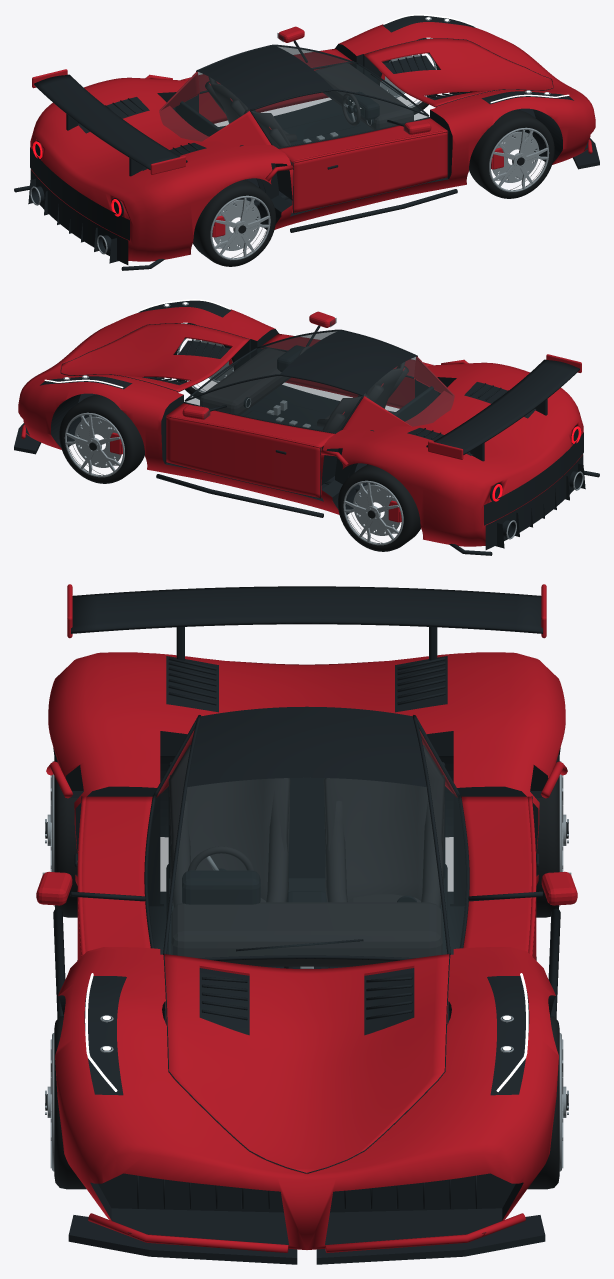
The model's file is car_vermilion.glb.
3 renders of one model, top to bottom at view 1: azimuth 30°, elevation 25°; view 2: azimuth 150°, elevation 25°; view 3: azimuth 270°, elevation 25°, orthographic. The views are drawn at different scales.
Visible parts, largest first — view 1: CarBody, Door_Right, Hood, RearWing, Wheel_Front_Right, Wheel_Rear_Right, Door_Left, Wheel_Front_Left; view 2: CarBody, Door_Left, Hood, RearWing, Wheel_Front_Left, Wheel_Rear_Left, Door_Right, Wheel_Front_Right; view 3: CarBody, Hood, RearWing, Door_Right, Door_Left, Wheel_Rear_Left, Wheel_Rear_Right, Wheel_Front_Left, Wheel_Front_Right.
Boxes of the visible parts, x1,y1,x2,y2 form: CarBody: [14, 14, 599, 270]; Door_Right: [250, 89, 448, 213]; Hood: [364, 38, 553, 107]; RearWing: [32, 69, 187, 176]; Wheel_Front_Right: [469, 109, 554, 198]; Wheel_Rear_Right: [193, 179, 275, 266]; Door_Left: [181, 26, 357, 123]; Wheel_Front_Left: [376, 38, 440, 114]; CarBody: [14, 299, 599, 555]; Door_Left: [165, 374, 363, 498]; Hood: [60, 323, 249, 392]; RearWing: [426, 354, 581, 461]; Wheel_Front_Left: [59, 394, 144, 483]; Wheel_Rear_Left: [338, 464, 420, 551]; Door_Right: [257, 311, 432, 408]; Wheel_Front_Right: [173, 323, 237, 399]; CarBody: [46, 652, 567, 1264]; Hood: [163, 954, 450, 1174]; RearWing: [67, 584, 546, 660]; Door_Right: [36, 715, 201, 960]; Door_Left: [412, 715, 577, 960]; Wheel_Rear_Left: [536, 753, 568, 917]; Wheel_Rear_Right: [45, 753, 77, 917]; Wheel_Front_Left: [527, 1016, 568, 1189]; Wheel_Front_Right: [45, 1016, 86, 1189].
Bounding box in the file's own units: 4.81 × 1.19 × 2.27.
